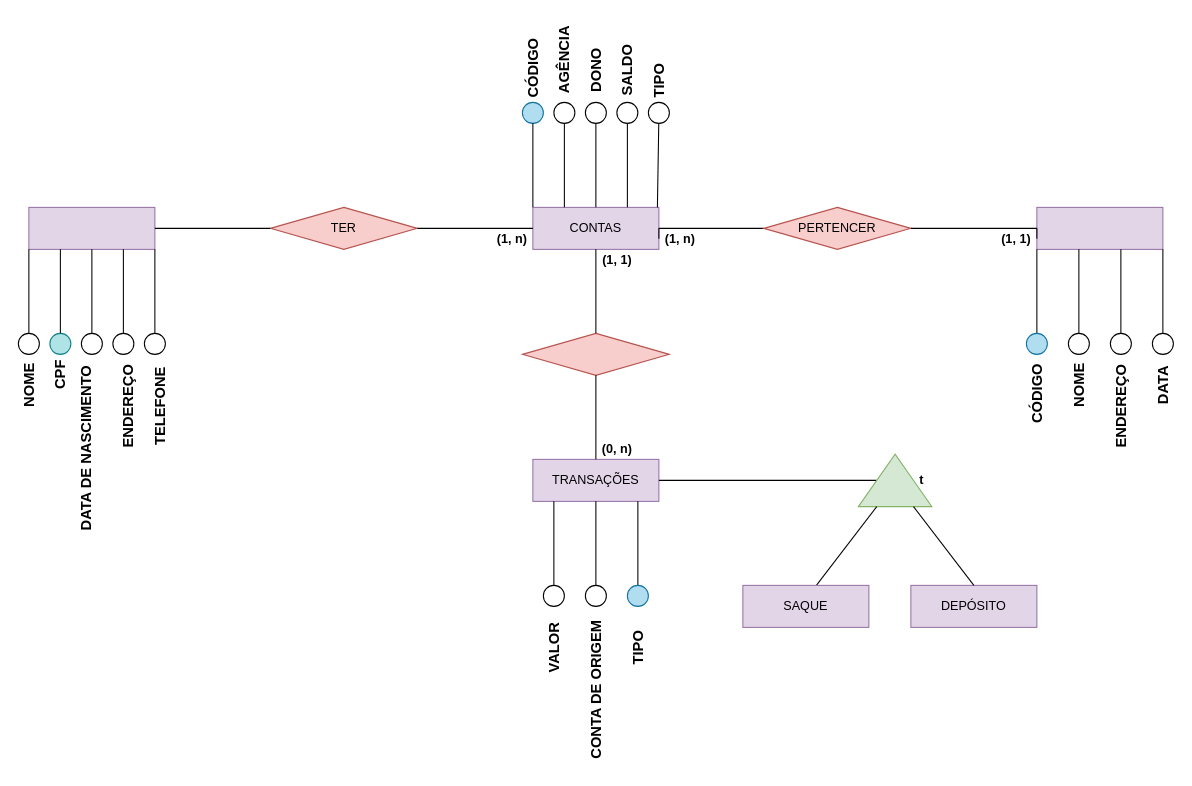
This 1192x786 diagram has some shape labels left out. The centre of each missing label's shape, as x and y in pixels:
"AGÊNCIAS" belongs at point 1099,227.
"CLIENTES" belongs at point 91,227.
"FAZER" belongs at point 595,353.
